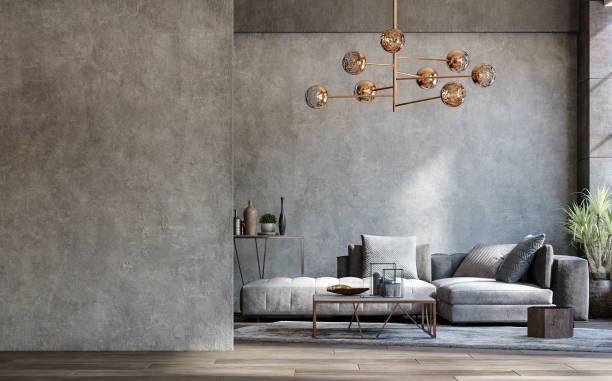large plant: (567, 183, 612, 323)
sofa: (239, 232, 590, 328)
table: (309, 292, 438, 342)
